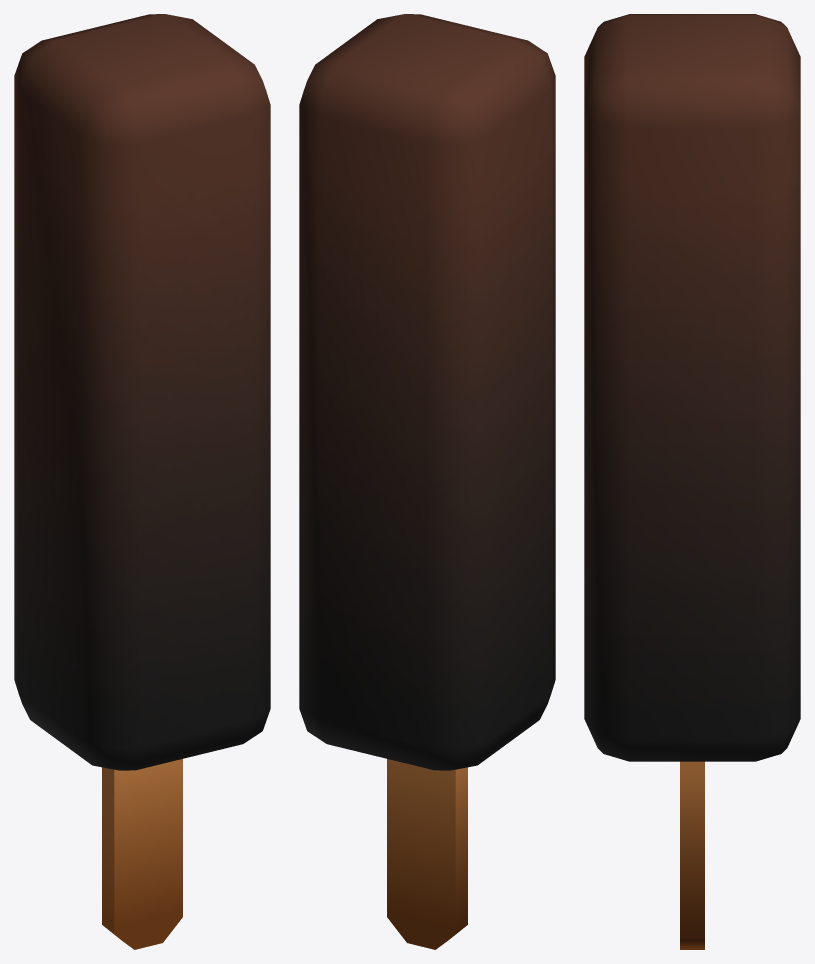
Rendered from m_SquarePopsicle04.fbx.
3 renders of one model, left to right at view 1: azimuth 30°, elevation 25°; view 2: azimuth 150°, elevation 25°; view 3: azimuth 270°, elevation 25°, orthographic.
Parts seen in each view (by area): view 1: m_SquarePopsicle04; view 2: m_SquarePopsicle04; view 3: m_SquarePopsicle04.
Boxes of the visible parts, x1,y1,x2,y2 form: m_SquarePopsicle04: [14, 14, 270, 949]; m_SquarePopsicle04: [299, 14, 555, 949]; m_SquarePopsicle04: [584, 14, 800, 949].
Bounding box in the file's own units: 5 × 23.01 × 5.
